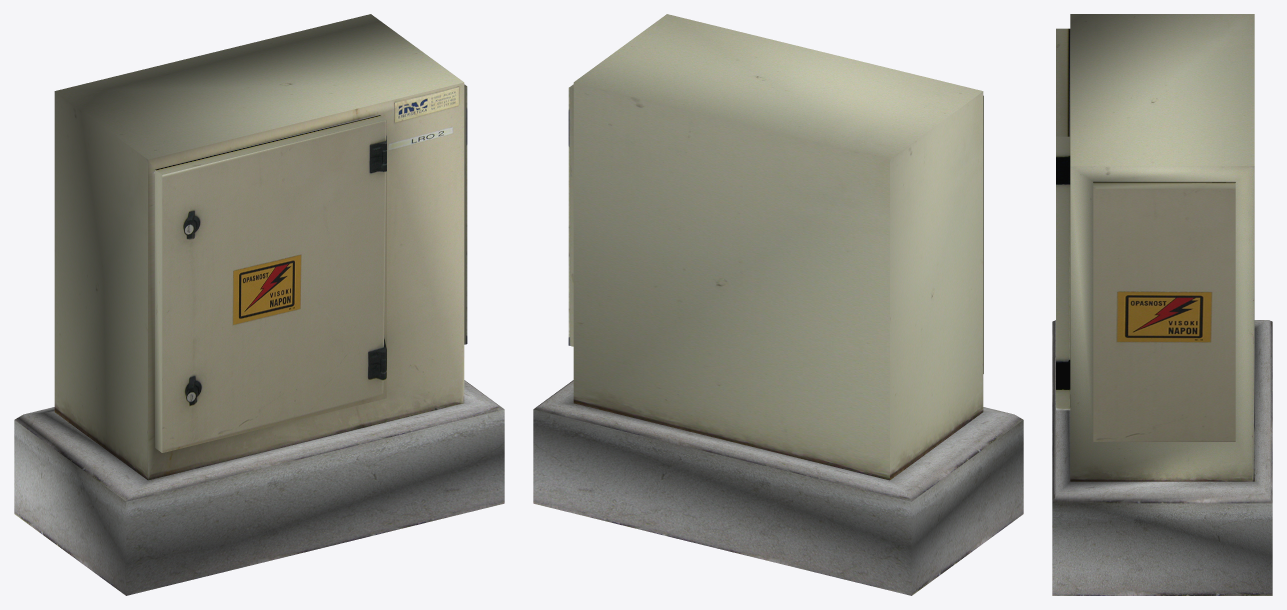
The model's file is electric_cube.fbx.
3 renders of one model, left to right at view 1: azimuth 30°, elevation 25°; view 2: azimuth 150°, elevation 25°; view 3: azimuth 270°, elevation 25°, orthographic.
Visible parts, largest first — view 1: Default_Layer; view 2: Default_Layer; view 3: Default_Layer.
Boxes of the visible parts, x1,y1,x2,y2 form: Default_Layer: (14, 14, 504, 595); Default_Layer: (533, 14, 1023, 595); Default_Layer: (1052, 14, 1272, 595).
Bounding box in the file's own units: 651 × 693 × 333.
Materials: 1 (1 with a texture image).
